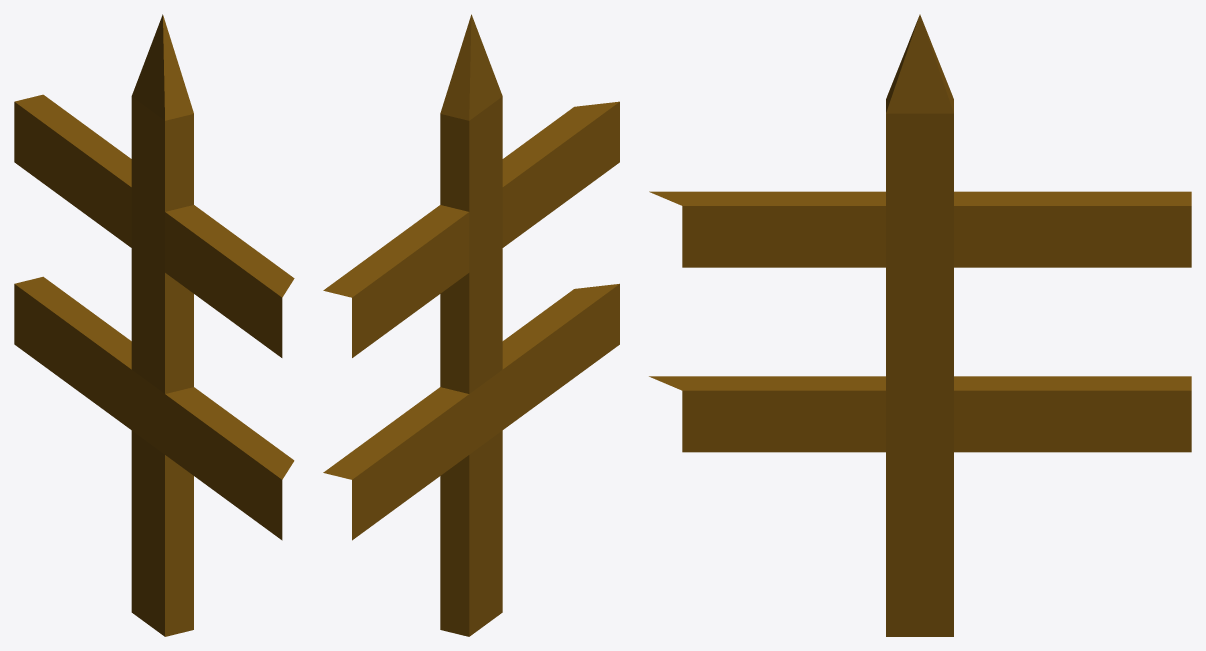
3 renders of one model, left to right at view 1: azimuth 30°, elevation 25°; view 2: azimuth 150°, elevation 25°; view 3: azimuth 270°, elevation 25°, orthographic.
Bounding box in the file's own units: 8 × 160 × 128.
1 material, 1 textured.
